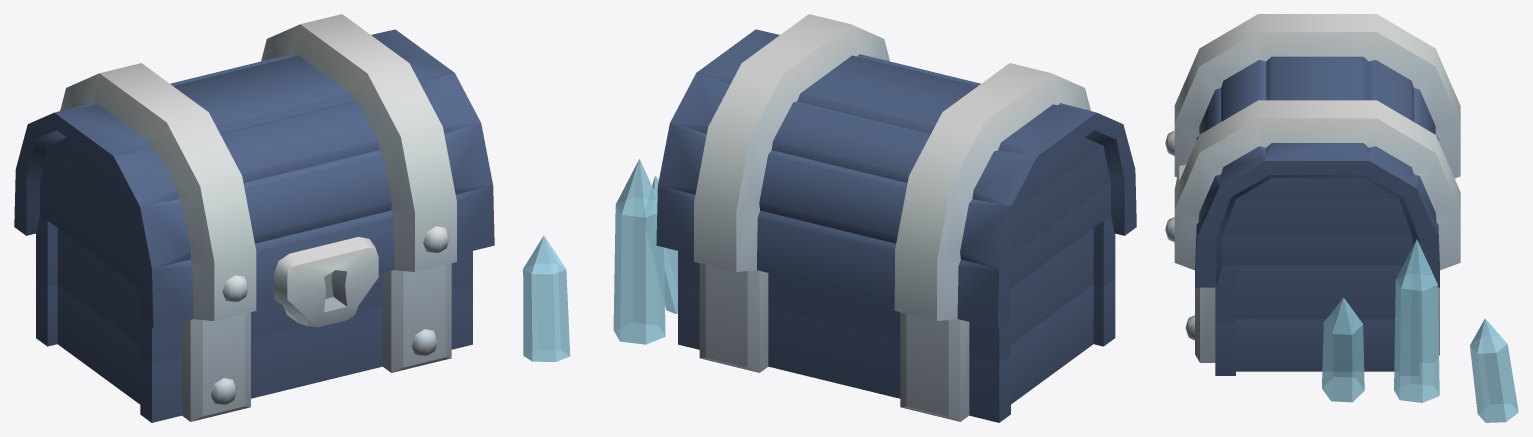
The model's file is chest.fbx.
3 renders of one model, left to right at view 1: azimuth 30°, elevation 25°; view 2: azimuth 150°, elevation 25°; view 3: azimuth 270°, elevation 25°, orthographic. The views are drawn at different scales.
Parts seen in each view (by area): view 1: Lid, chest; view 2: Lid, chest; view 3: Lid, chest.
Boxes of the visible parts, x1,y1,x2,y2 form: Lid: [14, 14, 494, 328]; chest: [36, 215, 472, 422]; Lid: [656, 14, 1136, 328]; chest: [523, 159, 1115, 422]; Lid: [1165, 14, 1460, 287]; chest: [1185, 239, 1518, 422].
Size of the model in its own units: 1.59 by 0.9555 by 1.25.
